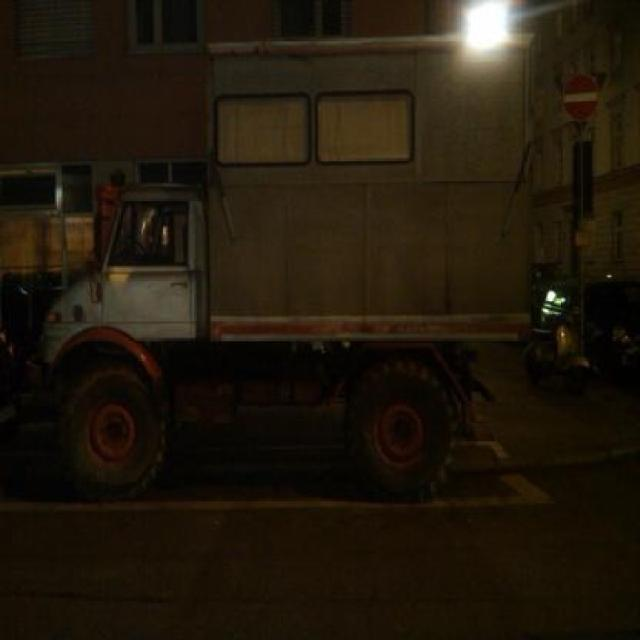Truck: (41, 164, 550, 500)
